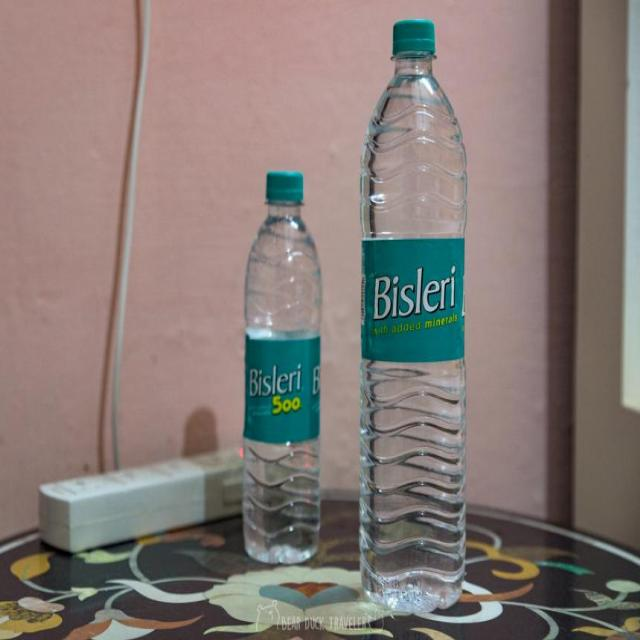bottle: (349, 25, 463, 588), (242, 157, 328, 593)
